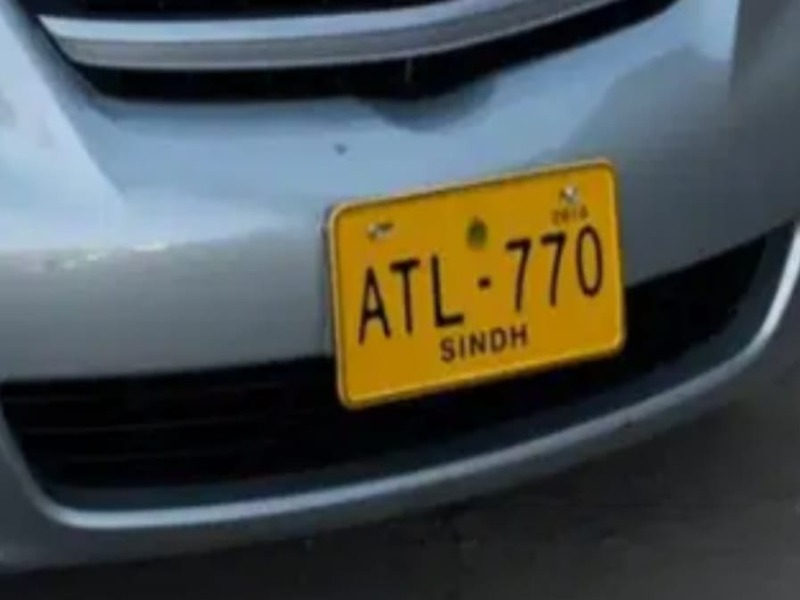License Plate: (328, 162, 625, 407)
